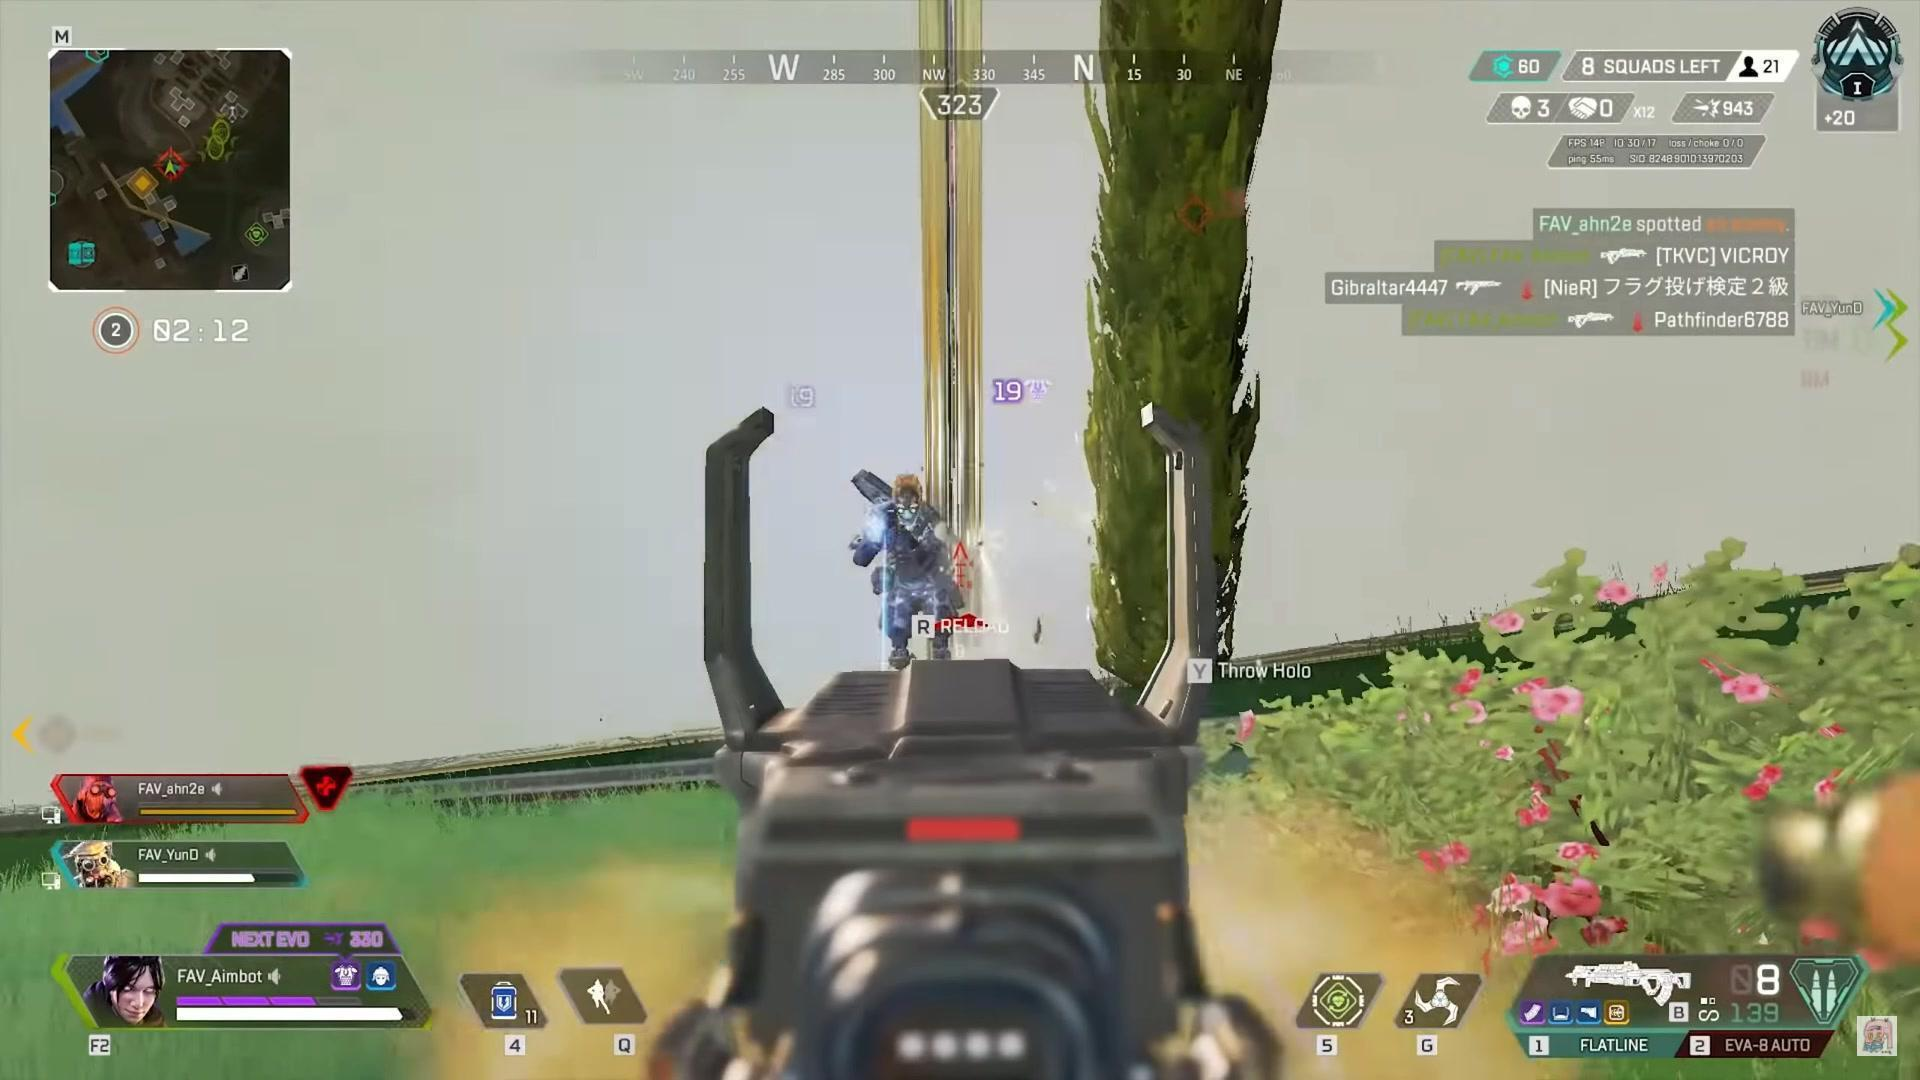avatar: (848, 469, 962, 674)
